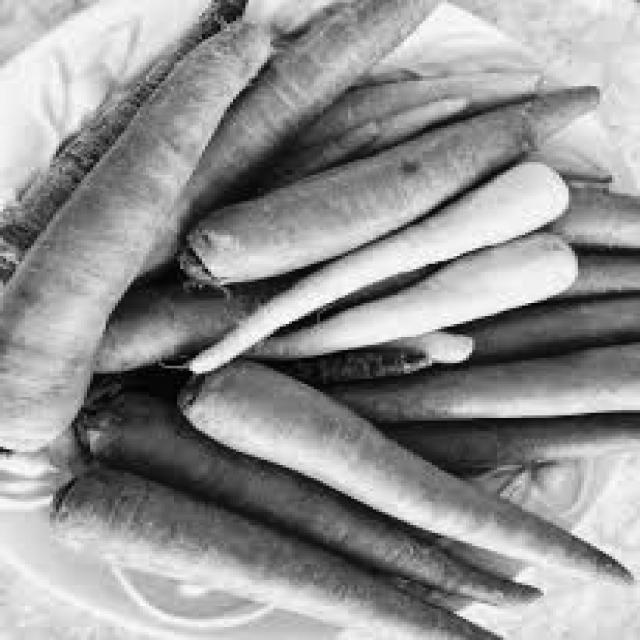Stale_Carrot: (176, 355, 637, 586), (47, 462, 488, 640)
